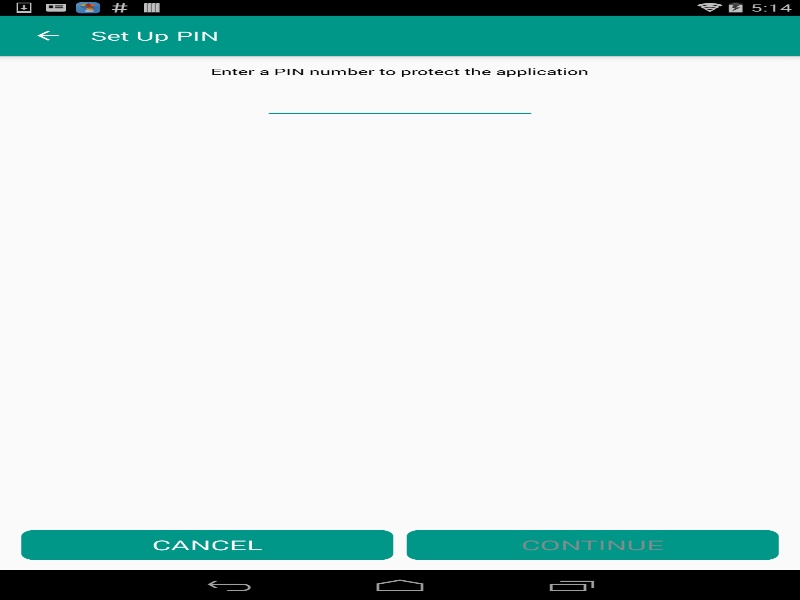Button: (21, 530, 393, 560), (406, 530, 778, 560), (10, 15, 85, 55)
Input: (263, 90, 536, 118)
